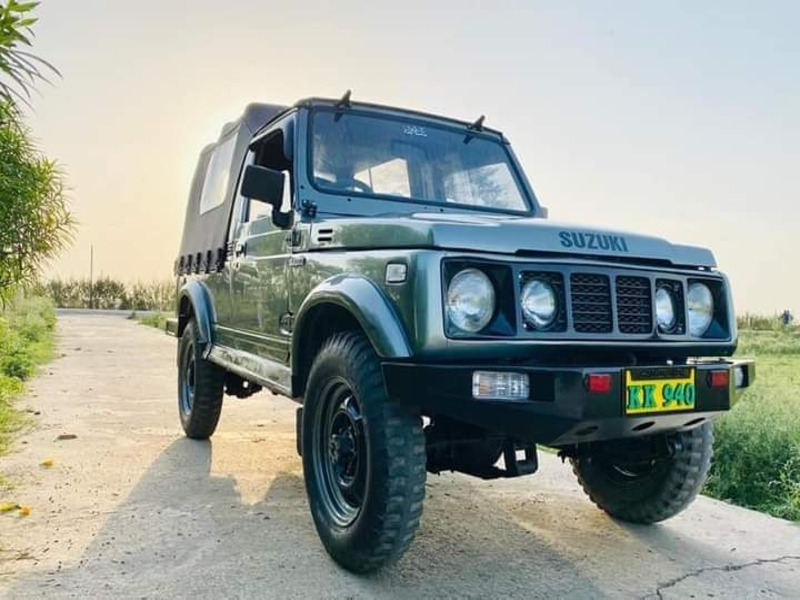License Plate: (621, 359, 701, 420)
